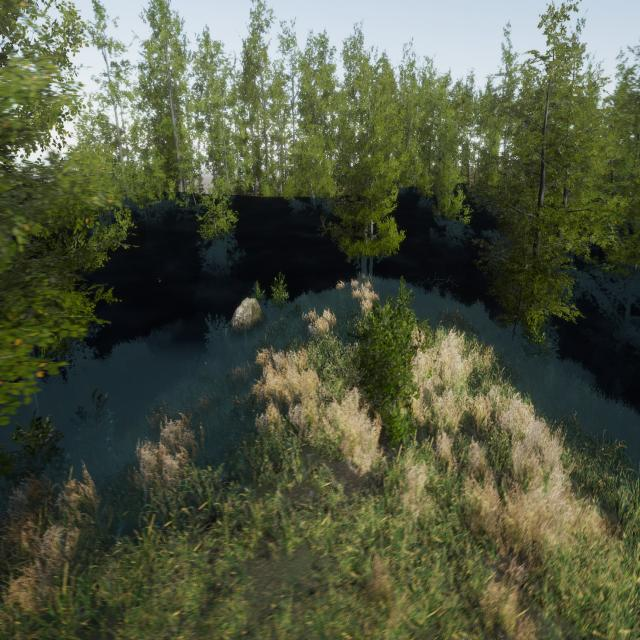Human: (305, 311, 319, 347)
